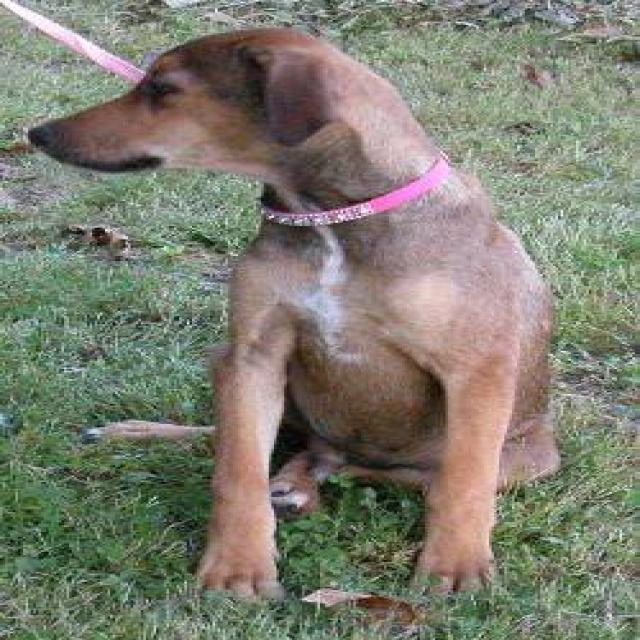dogs: (31, 14, 568, 608)
